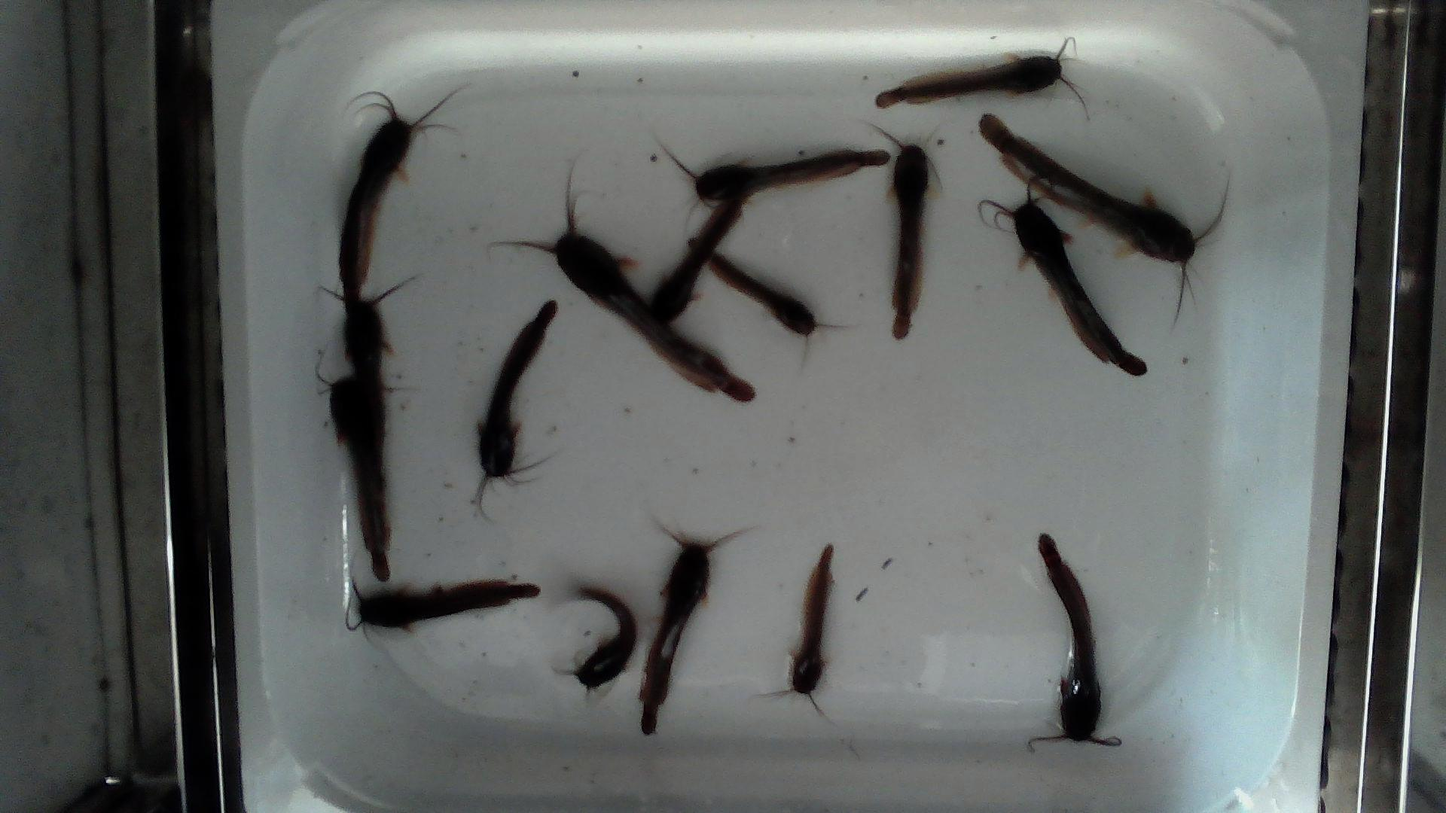lele: (489, 159, 754, 401), (979, 114, 1226, 332), (978, 186, 1149, 378), (339, 89, 464, 314), (689, 237, 855, 373), (642, 519, 746, 736), (1030, 534, 1121, 745), (475, 302, 560, 523), (323, 279, 414, 476), (860, 120, 940, 339), (661, 141, 890, 209), (345, 558, 544, 635), (877, 38, 1088, 107), (331, 376, 395, 579), (649, 194, 749, 321), (570, 586, 638, 685), (792, 545, 833, 694)
